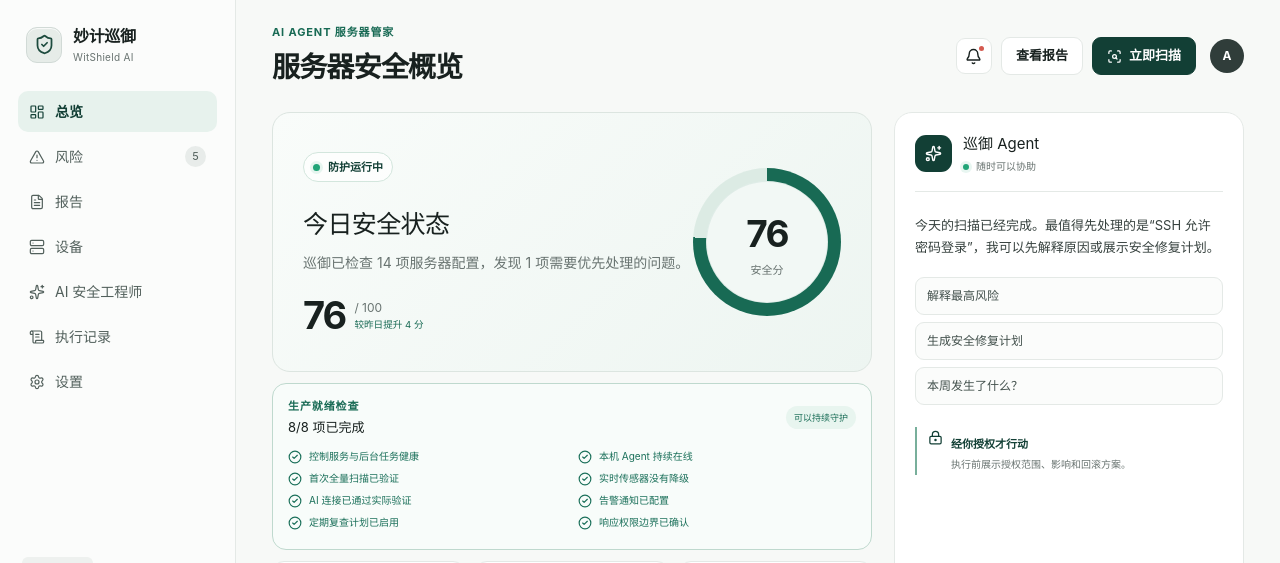
Scenario: WitShieldApp › keeps untrusted security observations separate from automatic defense
The width and height of the screenshot is (1280, 563).
expect the heading "服务器安全概览" is shown: met, box [272,46,462,88]
Click the button "执行记录".
click(118, 336)  # box [18,316,217,357]
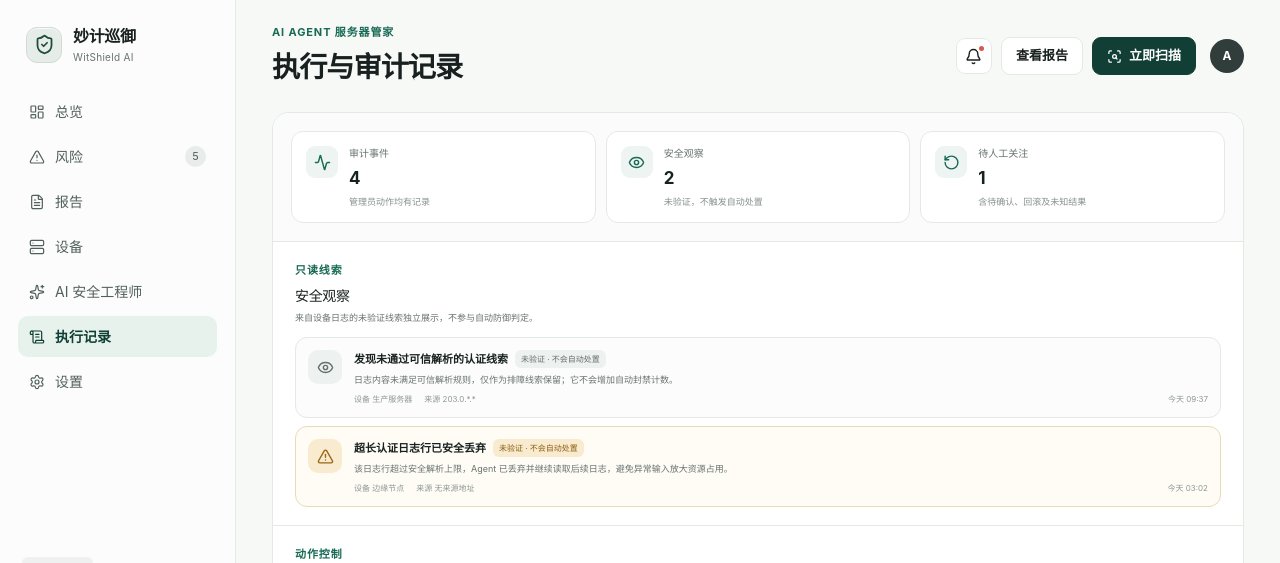
expect the heading "安全观察" is shown: met, box [295,286,350,304]
expect the text "发现未通过可信解析的认证线索" is shown: met, box [354,351,508,368]
expect the text "203.0.*.*" is shown: met, box [442,394,476,404]
